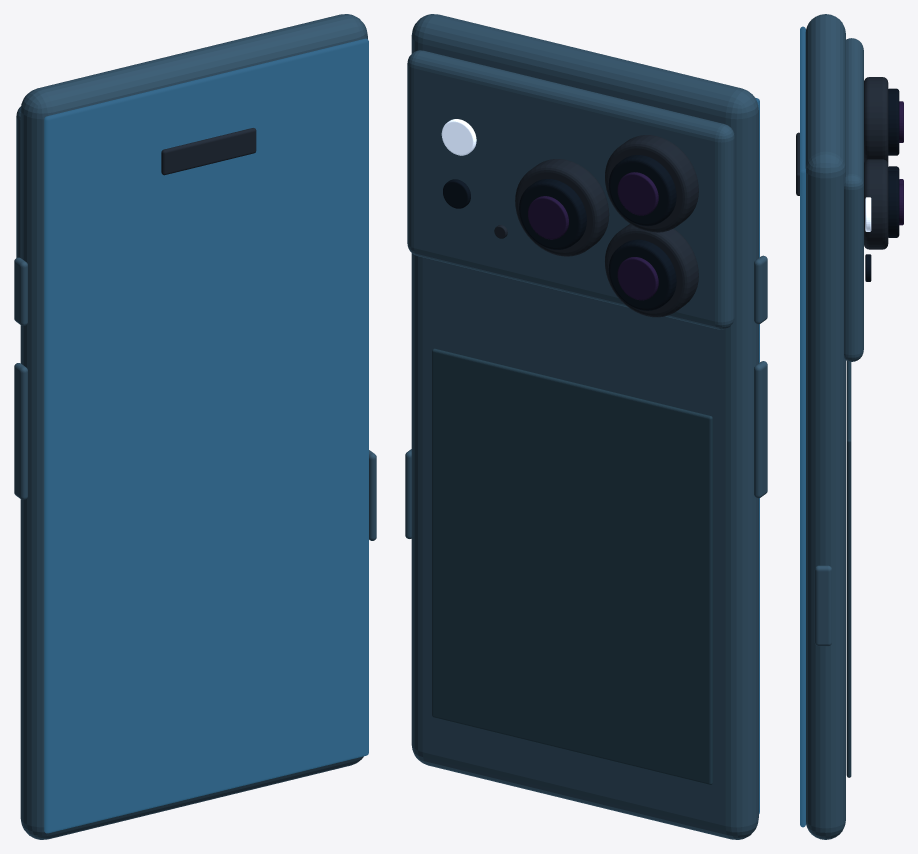
File: iphone-17-pro-max-blockout.glb
3 views of the same model, side by side, from view 1: azimuth 30°, elevation 25°; view 2: azimuth 150°, elevation 25°; view 3: azimuth 270°, elevation 25° (orthographic). The views are drawn at different scales.
Visible parts, largest first — view 1: Front display, Unibody chassis, Dynamic sensor island, Volume controls, Action button, Camera plateau, Camera control; view 2: Rear glass insert, Unibody chassis, Camera plateau, Camera 1 outer ring, Camera 3 outer ring, Camera 2 outer ring, Camera 1 optical glass, Camera 2 optical glass, Camera 3 optical glass, Volume controls, Camera 1 sensor, Camera 2 sensor (+3 smaller); view 3: Unibody chassis, Camera plateau, Front display, Rear glass insert, Camera 3 outer ring, Camera 1 outer ring, Camera control, Camera 1 optical glass, Camera 3 optical glass, Dynamic sensor island, Flash.
Part boxes in pixels (x1,y1,x2,y2): Front display: [44, 38, 368, 833]; Unibody chassis: [20, 14, 367, 839]; Dynamic sensor island: [161, 128, 256, 175]; Volume controls: [14, 363, 27, 499]; Action button: [14, 257, 27, 325]; Camera plateau: [16, 106, 20, 257]; Camera control: [369, 450, 376, 540]; Rear glass insert: [432, 348, 712, 784]; Unibody chassis: [411, 14, 758, 839]; Camera plateau: [407, 50, 734, 329]; Camera 1 outer ring: [605, 135, 698, 232]; Camera 3 outer ring: [515, 159, 609, 256]; Camera 2 outer ring: [605, 224, 698, 317]; Camera 1 optical glass: [608, 155, 676, 226]; Camera 2 optical glass: [608, 239, 676, 310]; Camera 3 optical glass: [519, 179, 586, 249]; Volume controls: [754, 361, 767, 498]; Camera 1 sensor: [617, 172, 658, 215]; Camera 2 sensor: [617, 257, 658, 300]; Unibody chassis: [805, 14, 845, 839]; Camera plateau: [844, 38, 863, 361]; Front display: [800, 26, 805, 827]; Rear glass insert: [846, 361, 851, 777]; Camera 3 outer ring: [864, 159, 888, 249]; Camera 1 outer ring: [864, 77, 888, 162]; Camera control: [814, 565, 831, 646]; Camera 1 optical glass: [888, 88, 899, 155]; Camera 3 optical glass: [888, 171, 899, 237]; Dynamic sensor island: [796, 132, 799, 195]; Flash: [865, 197, 871, 231].
Bounding box in the file's own units: 1.63 × 3.27 × 0.4645.
